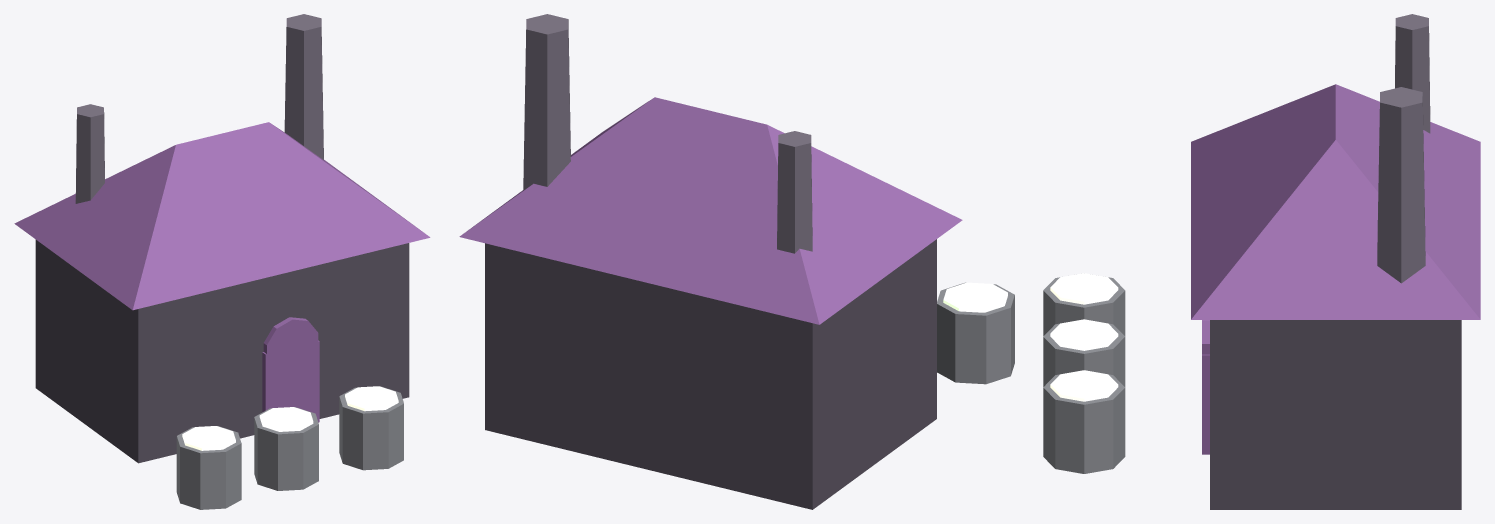
3 renders of one model, left to right at view 1: azimuth 30°, elevation 25°; view 2: azimuth 150°, elevation 25°; view 3: azimuth 270°, elevation 25°, orthographic. The views are drawn at different scales.
Visible parts, largest first — view 1: body; view 2: body; view 3: body.
Boxes of the visible parts, box(x1,y1,x2,y2) form: body: box(14, 14, 430, 509); body: box(459, 14, 1014, 509); body: box(1043, 14, 1480, 509).
Size of the model in its own units: 7.7 by 8 by 8.
